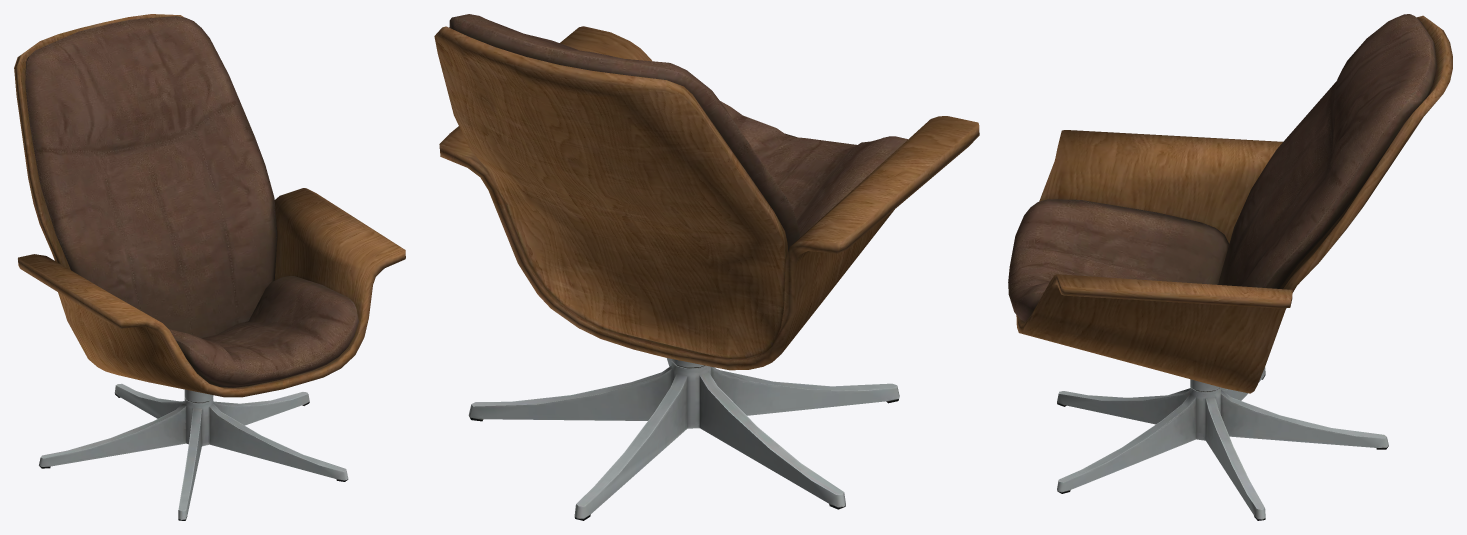
Rendered from mid_century_lounge_chair.glb.
3 views of the same model, side by side, from view 1: azimuth 30°, elevation 25°; view 2: azimuth 150°, elevation 25°; view 3: azimuth 270°, elevation 25° (orthographic). The views are drawn at different scales.
Parts seen in each view (by area): view 1: mid_century_lounge_chair; view 2: mid_century_lounge_chair; view 3: mid_century_lounge_chair.
Part boxes in pixels (<box>): mid_century_lounge_chair: <box>14,14,405,520</box>; mid_century_lounge_chair: <box>434,14,979,520</box>; mid_century_lounge_chair: <box>1008,14,1452,520</box>.
Bounding box in the file's own units: 1.01 × 1.17 × 1.19.
1 material, 1 textured.
